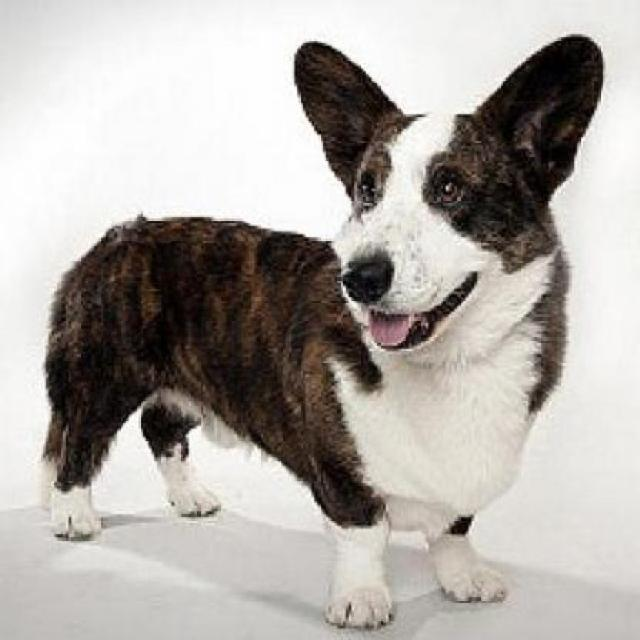Dog: (43, 28, 606, 628)
